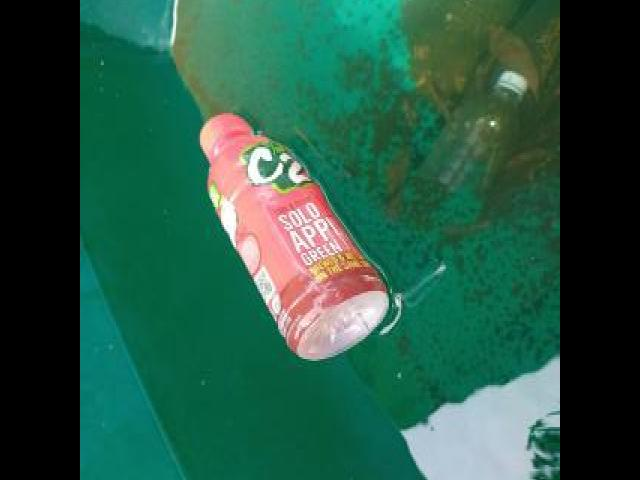Bottle: (194, 102, 394, 367)
